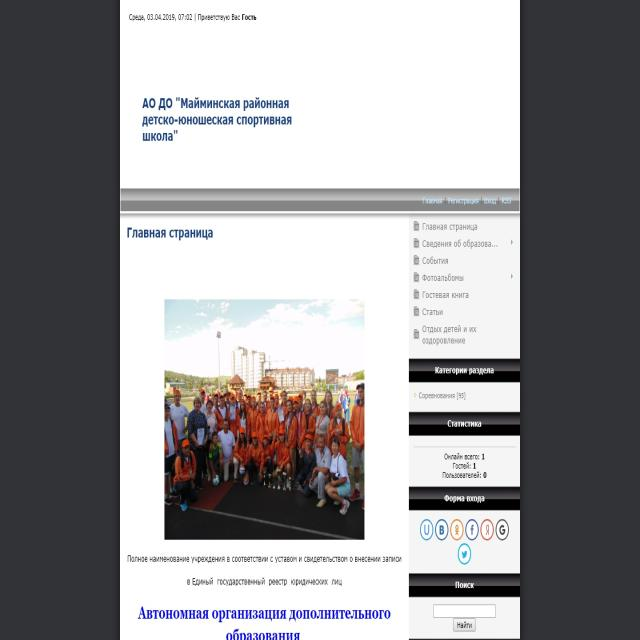button: (408, 321, 520, 350), (408, 214, 521, 235), (408, 236, 520, 252), (408, 269, 520, 285), (408, 303, 520, 319), (408, 252, 519, 268), (408, 286, 518, 302), (447, 193, 480, 209), (419, 193, 445, 209), (494, 517, 510, 541), (456, 543, 473, 565), (464, 518, 479, 540), (481, 518, 494, 542), (419, 519, 433, 541), (450, 519, 464, 541), (436, 518, 448, 542), (454, 618, 474, 632), (482, 193, 498, 208), (500, 191, 512, 208)
field: (434, 604, 494, 618)
heading: (137, 606, 392, 640), (141, 94, 298, 147), (124, 224, 215, 241), (435, 363, 495, 380), (443, 492, 488, 506), (446, 417, 484, 431), (452, 578, 477, 590)
image: (166, 298, 364, 538)
text: (126, 547, 404, 567), (183, 574, 347, 590), (127, 8, 261, 25), (438, 449, 490, 482), (418, 391, 467, 402)
